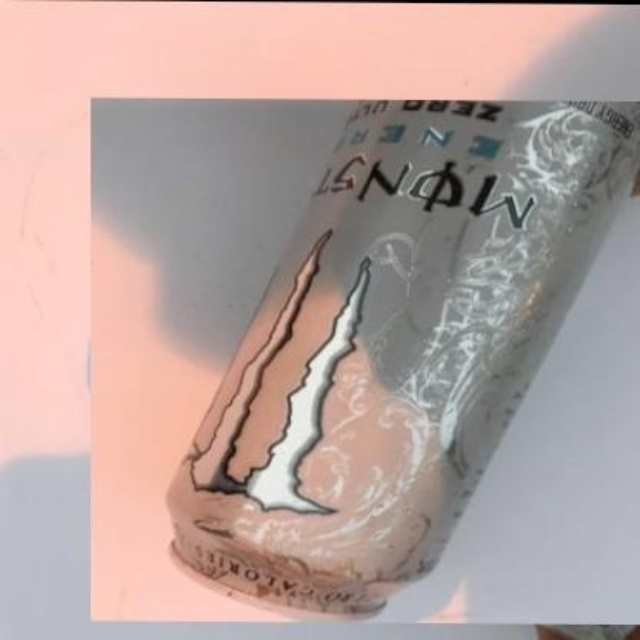trash: (168, 100, 638, 612)
